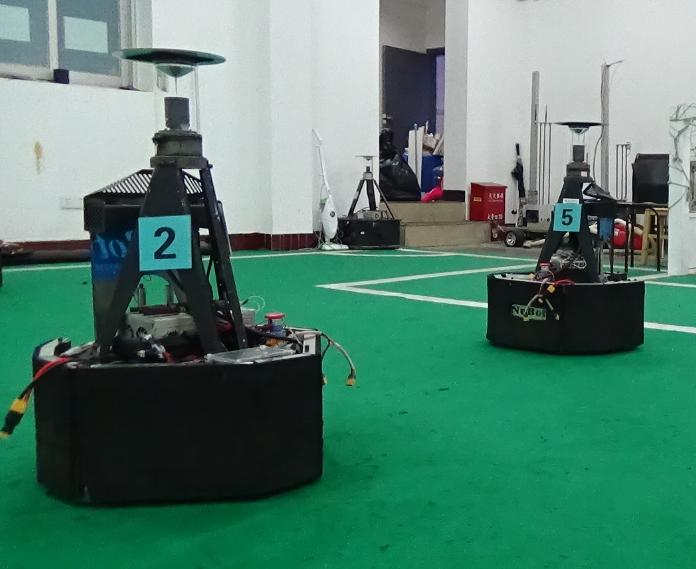robot: (35, 41, 327, 507), (480, 116, 648, 358)
